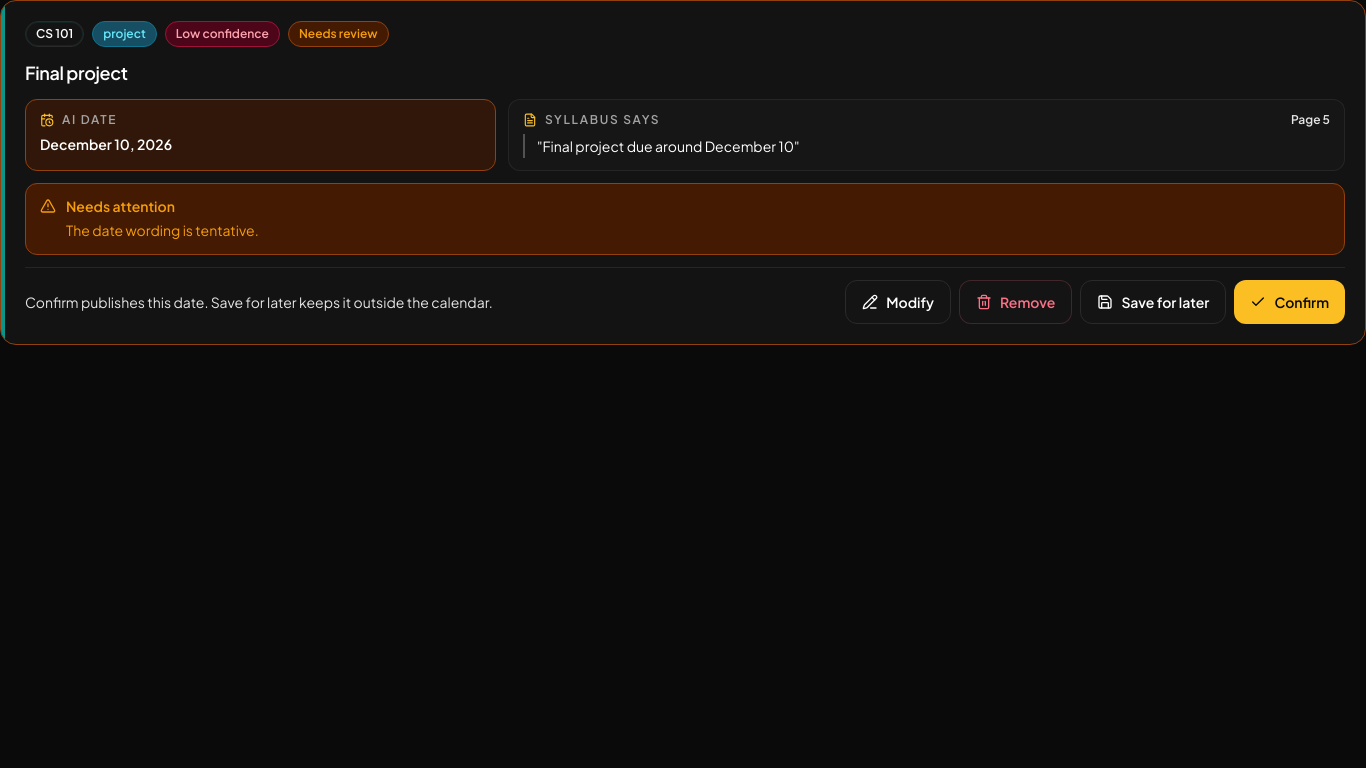
Scenario: cancels draft changes and returns focus to Modify
Click the button with aria-label "Modify Final project": [898, 302] box [845,280,951,324]
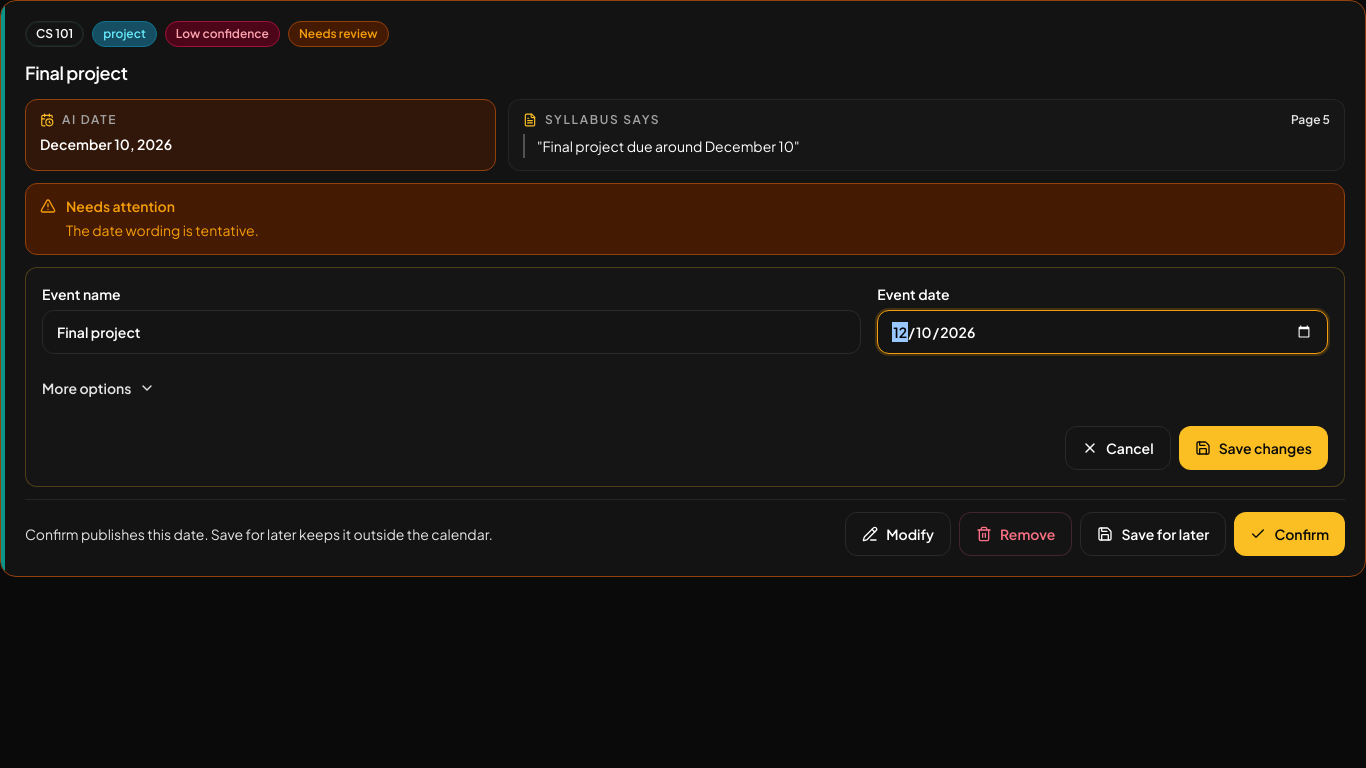
Replace the text in the field labelled "Event name" with "Wrong draft": [452, 332] box [42,310,861,354]
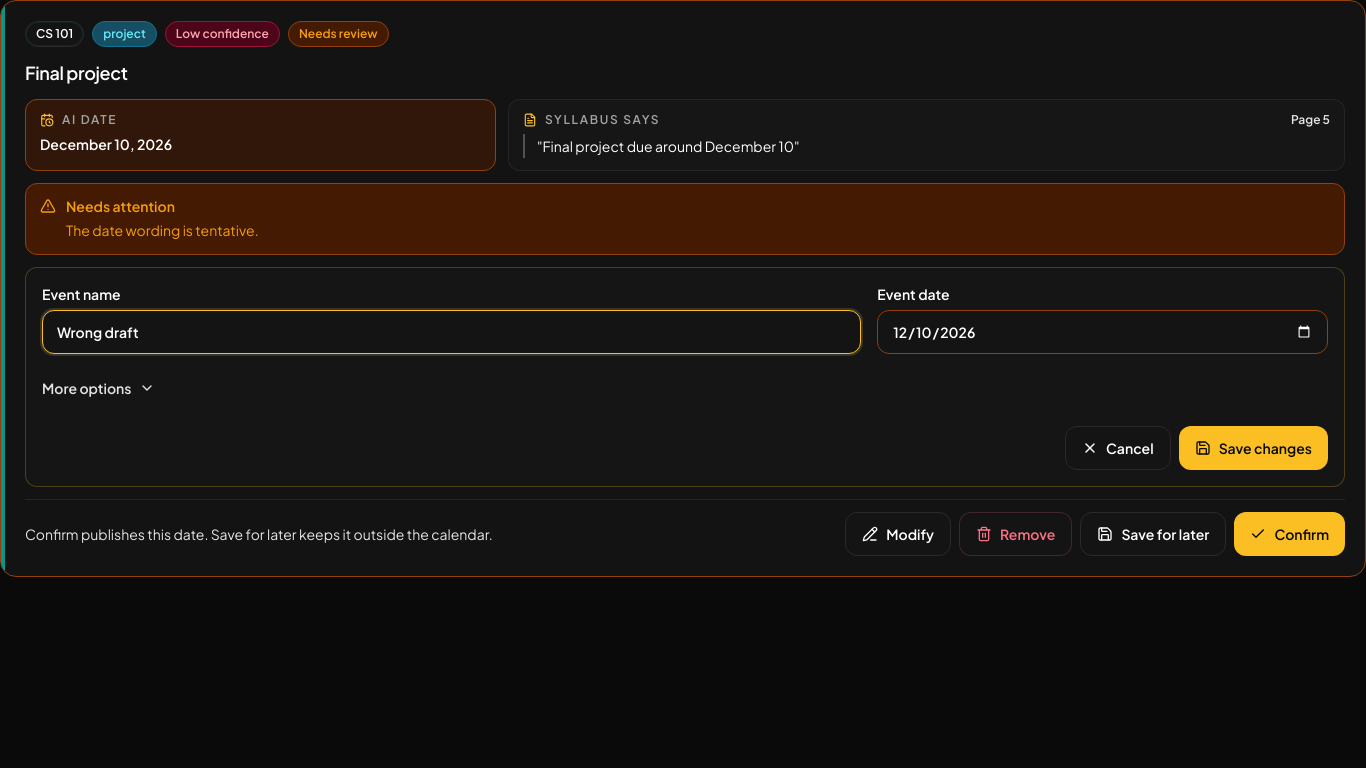
Click the button "Cancel": [1118, 448] box [1065,426,1171,470]
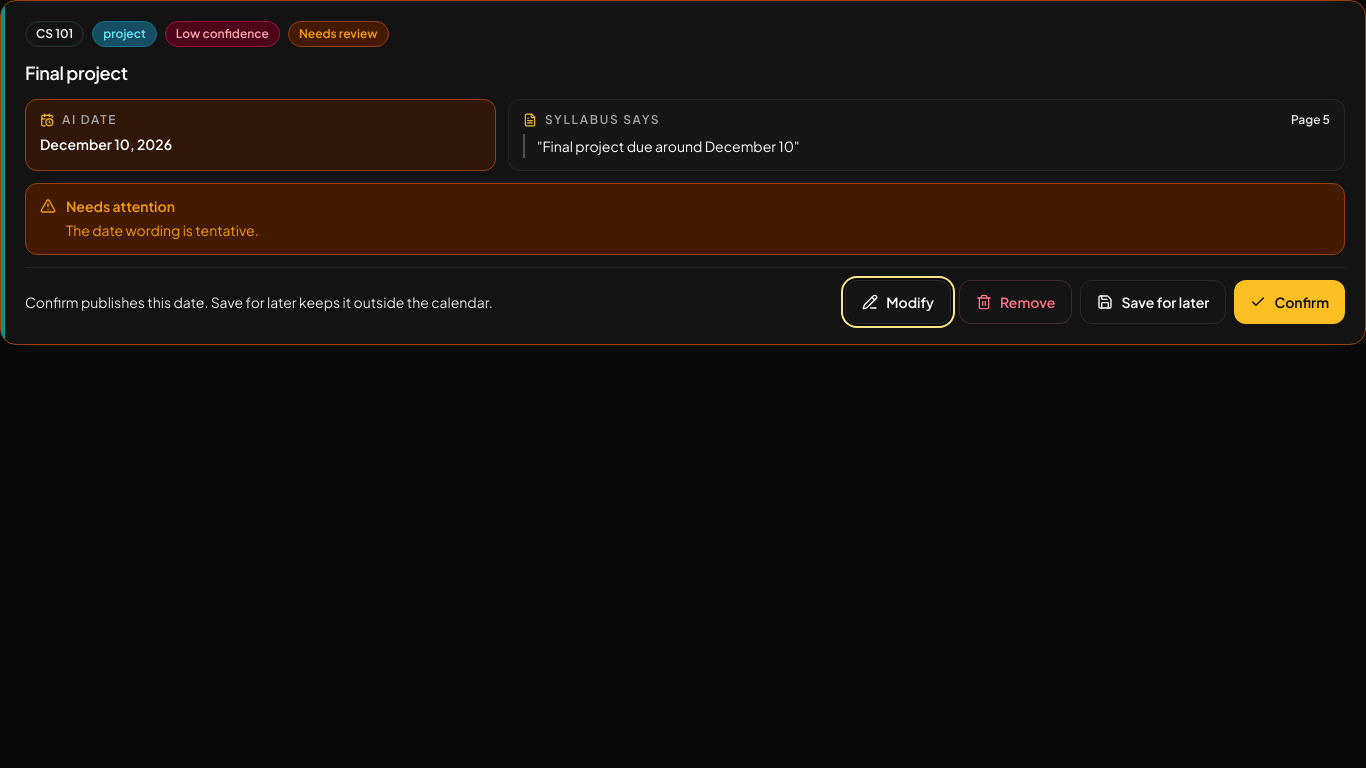
Click the button with aria-label "Modify Final project": [898, 302] box [845,280,951,324]
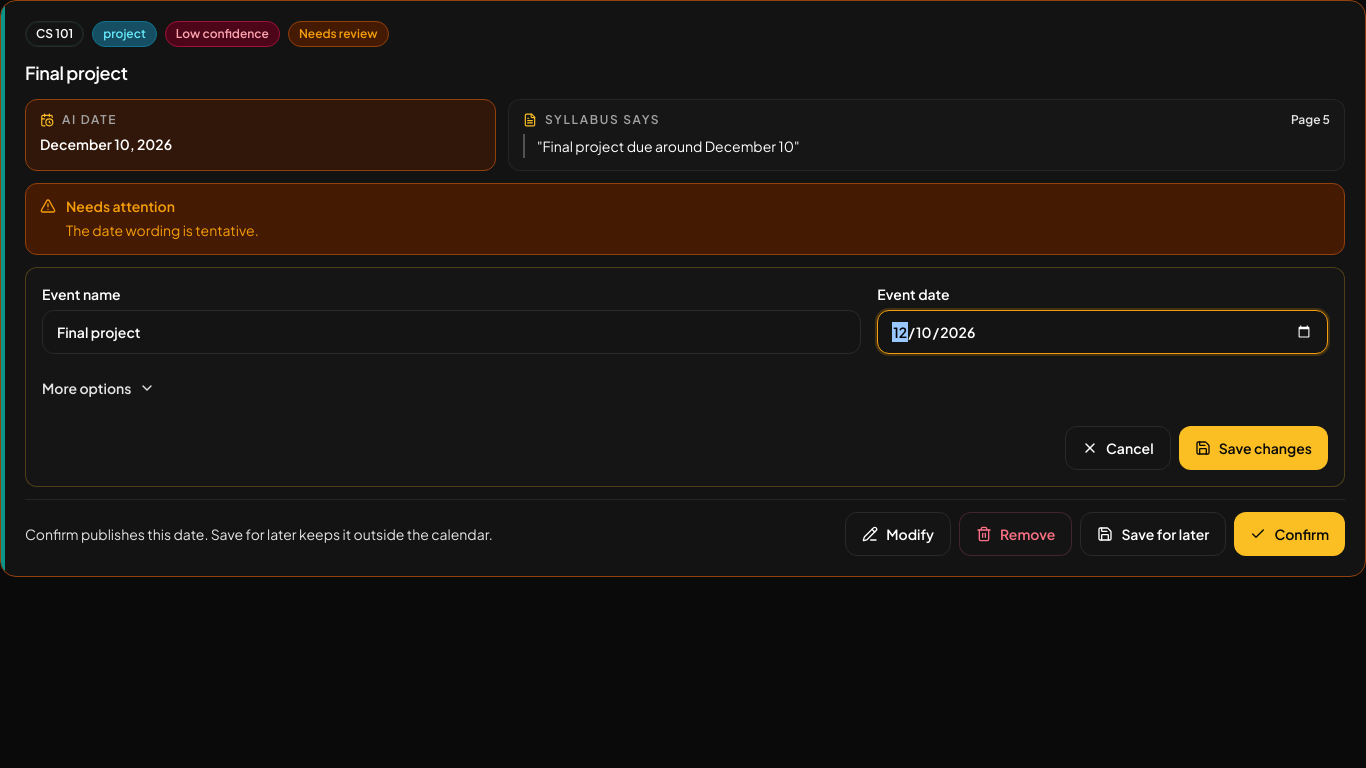
Check: the field labelled "Event name" holds "Final project", box [42,310,861,354]
